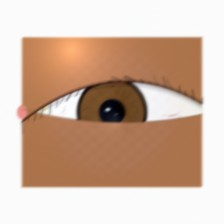pinguecula_lesion: (27, 92, 57, 116)
